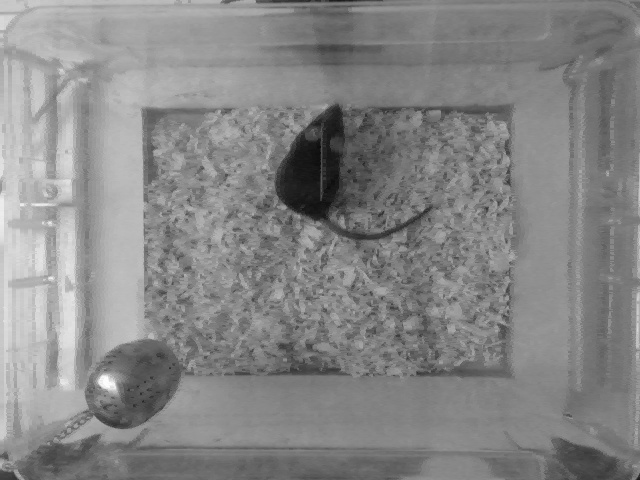mice: (273, 103, 431, 241)
